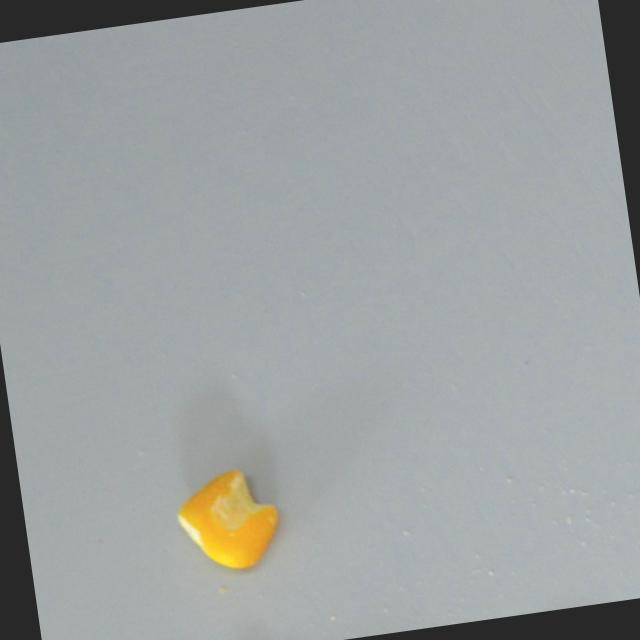dañado: (167, 458, 291, 580)
